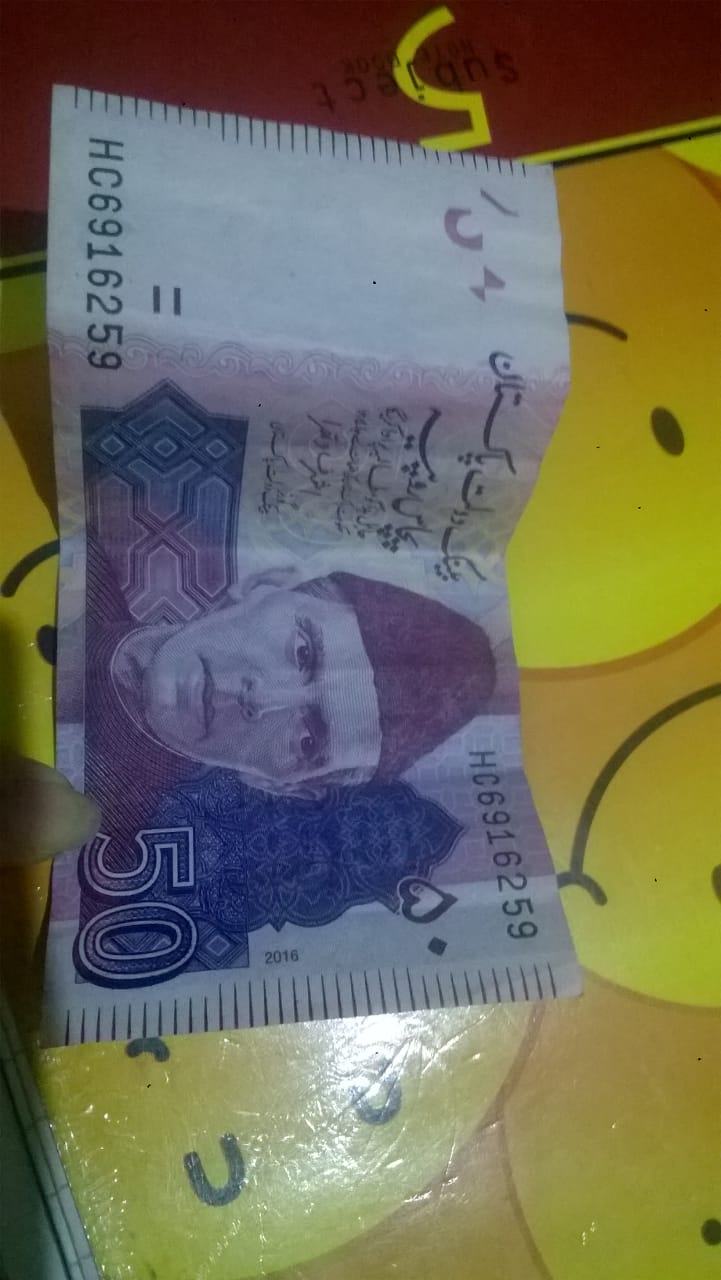50 rupee: (6, 63, 581, 1035)
